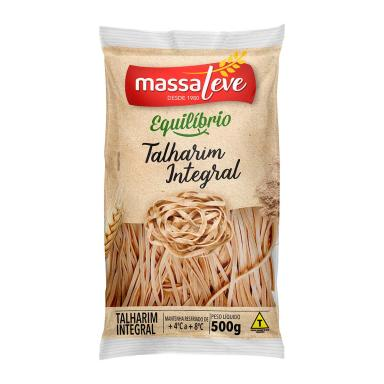pasta package: (100, 26, 283, 358)
